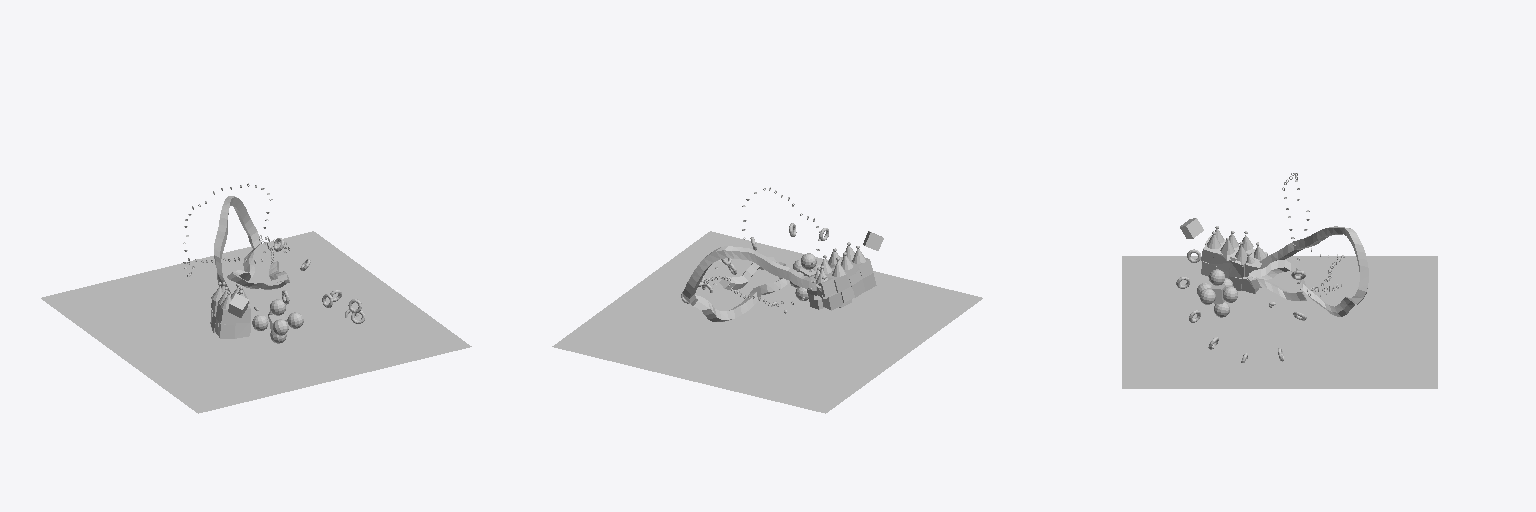
File: rollercoaster.obj
3 renders of one model, left to right at view 1: azimuth 30°, elevation 25°; view 2: azimuth 150°, elevation 25°; view 3: azimuth 270°, elevation 25°, orthographic.
Visible parts, largest first — view 1: Plane, mesh_[number redacted]_mesh.095, mesh_[number redacted]_mesh.093, mesh_[number redacted]_mesh.096; view 2: Plane, mesh_[number redacted]_mesh.094, mesh_[number redacted]_mesh.095, mesh_[number redacted]_mesh.096; view 3: Plane, mesh_[number redacted]_mesh.095, mesh_[number redacted]_mesh.093, mesh_[number redacted]_mesh.096, mesh_[number redacted]_mesh.094.
Boxes of the visible parts, x1=… form: Plane: x1=41, y1=231, x2=471, y2=413; mesh_[number redacted]_mesh.095: x1=220, y1=196, x2=260, y2=248; mesh_[number redacted]_mesh.093: x1=231, y1=261, x2=289, y2=289; mesh_[number redacted]_mesh.096: x1=214, y1=217, x2=231, y2=295; Plane: x1=552, y1=231, x2=982, y2=413; mesh_[number redacted]_mesh.094: x1=695, y1=278, x2=789, y2=321; mesh_[number redacted]_mesh.095: x1=683, y1=246, x2=753, y2=306; mesh_[number redacted]_mesh.096: x1=754, y1=250, x2=816, y2=290; Plane: x1=1122, y1=256, x2=1437, y2=388; mesh_[number redacted]_mesh.095: x1=1322, y1=226, x2=1368, y2=304; mesh_[number redacted]_mesh.093: x1=1247, y1=260, x2=1306, y2=300; mesh_[number redacted]_mesh.096: x1=1259, y1=230, x2=1328, y2=268; mesh_[number redacted]_mesh.094: x1=1278, y1=260, x2=1354, y2=316.
Size of the model in its own units: 109 by 54.6 by 109.